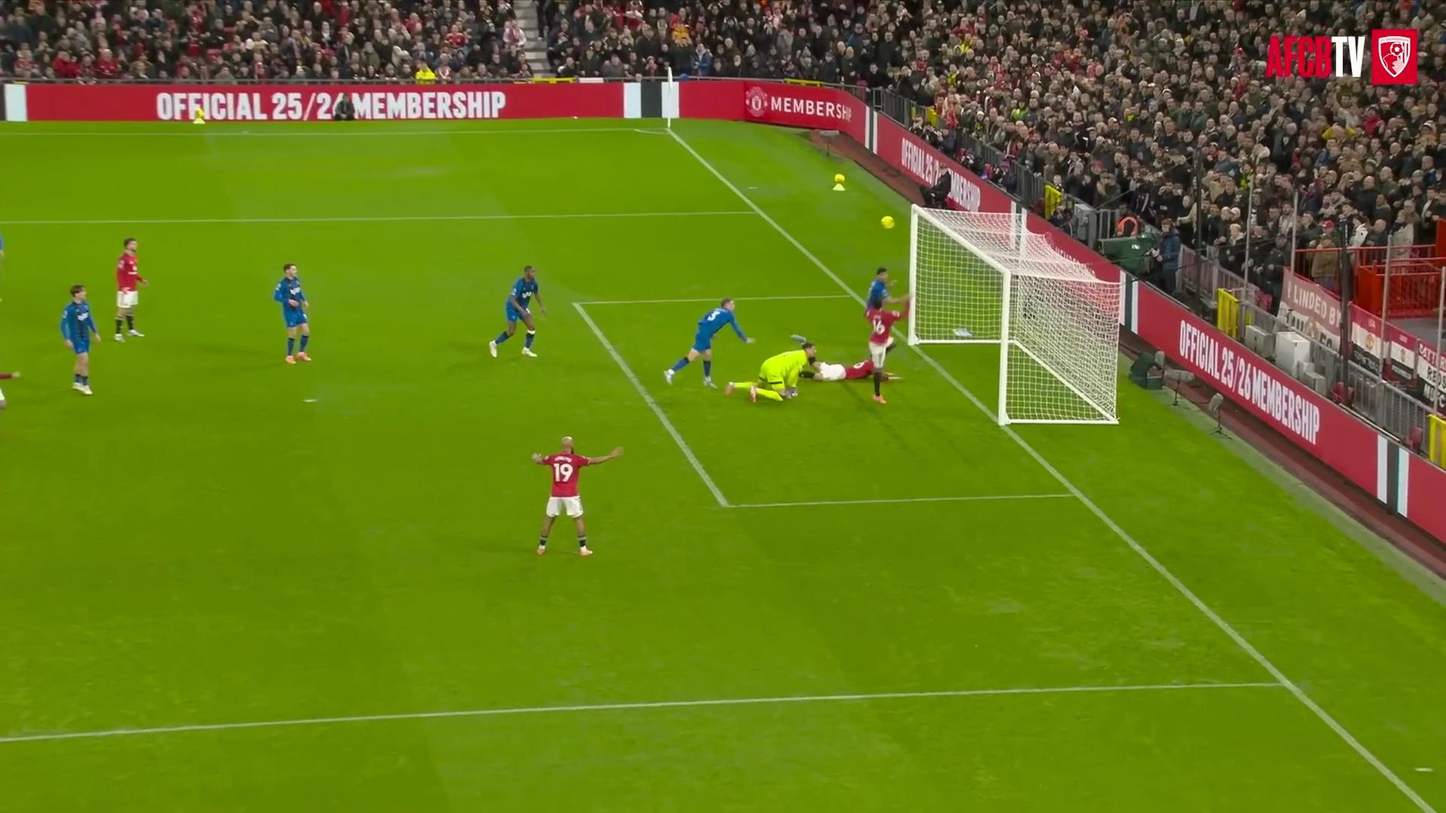football: (876, 210, 905, 239)
player: (532, 437, 622, 556), (664, 298, 753, 386), (725, 342, 816, 401), (489, 266, 545, 357), (865, 294, 911, 403), (60, 285, 100, 395), (273, 263, 312, 364), (114, 238, 148, 342), (801, 360, 874, 382), (865, 266, 898, 310), (0, 233, 5, 271), (0, 371, 20, 379)
